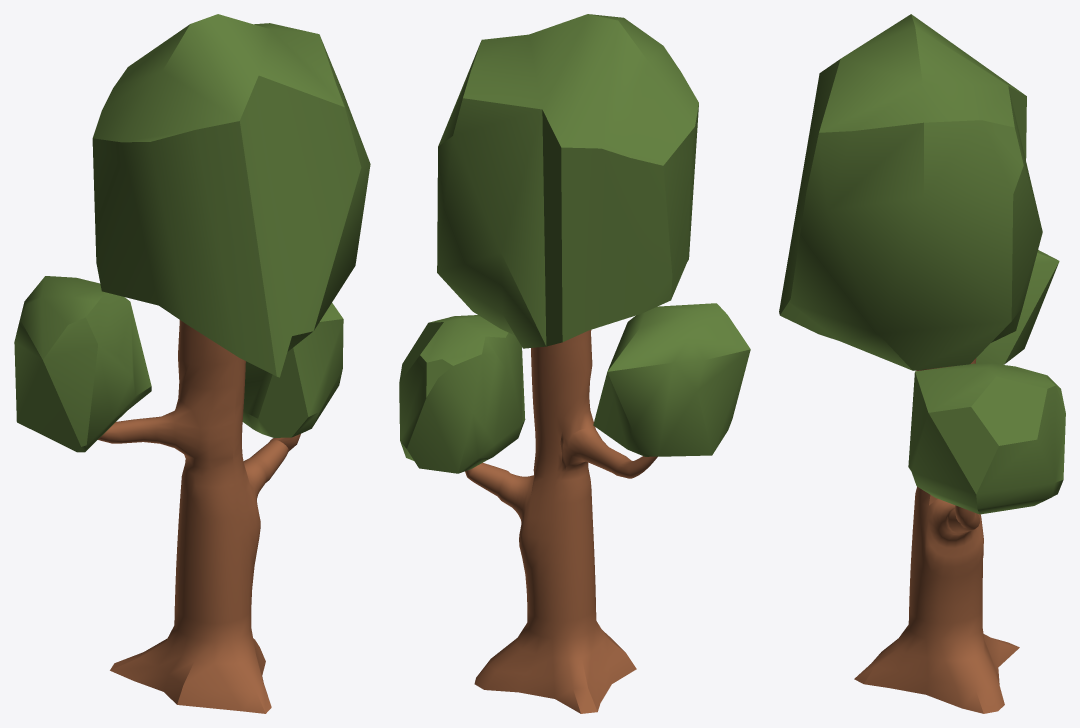
The model's file is Tree4.fbx.
3 views of the same model, side by side, from view 1: azimuth 30°, elevation 25°; view 2: azimuth 150°, elevation 25°; view 3: azimuth 270°, elevation 25° (orthographic). The views are drawn at different scales.
Parts seen in each view (by area): view 1: Plane.004; view 2: Plane.004; view 3: Plane.004.
Boxes of the visible parts, x1,y1,x2,y2 form: Plane.004: (14, 14, 370, 713); Plane.004: (399, 14, 750, 713); Plane.004: (779, 14, 1065, 713).
Bounding box in the file's own units: 6.06 × 12.04 × 4.81.
